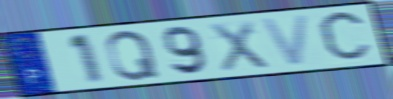1: (68, 32, 106, 85)
9: (162, 25, 209, 76)
C: (316, 8, 374, 66)
Q: (104, 28, 162, 82)
V: (257, 12, 312, 69)
X: (207, 19, 272, 74)
